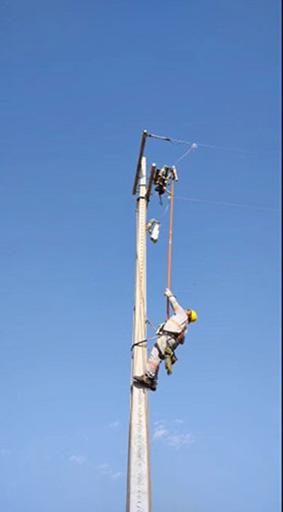Vara_Manobra: (162, 183, 176, 328)
